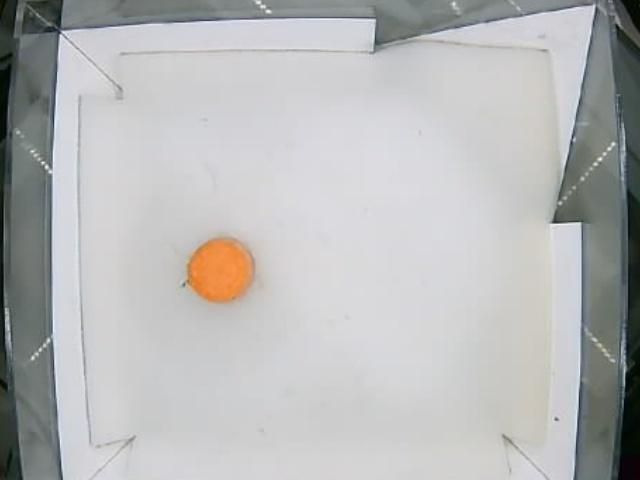Carrot: (187, 234, 255, 308)
